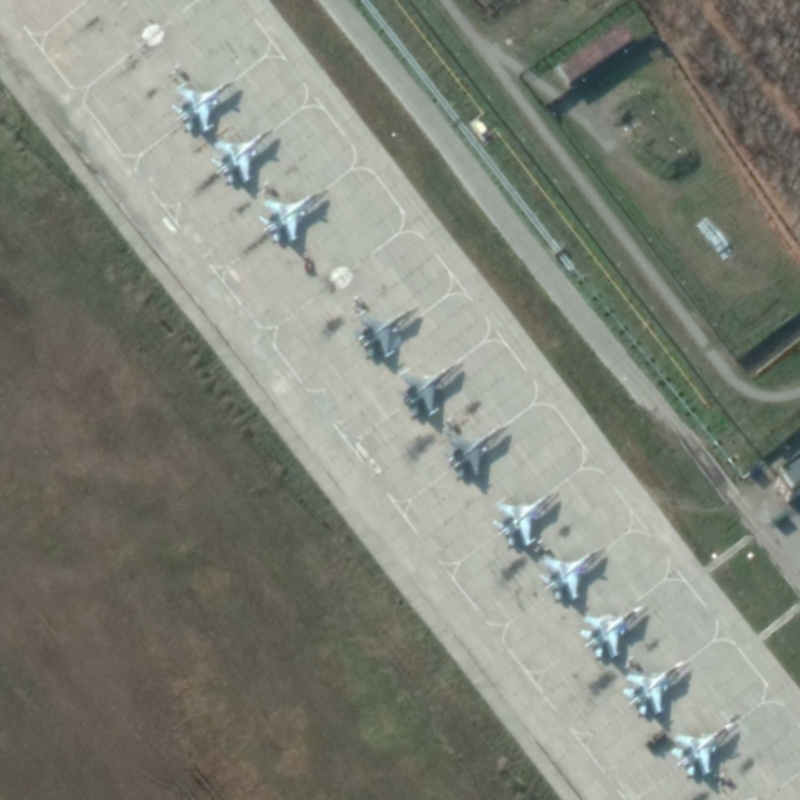A1: (441, 422, 511, 482), (257, 187, 330, 244), (491, 490, 562, 548), (396, 359, 466, 417), (537, 546, 608, 601), (355, 304, 420, 361), (209, 128, 274, 184), (169, 80, 235, 133)
A19: (669, 721, 741, 777), (578, 603, 648, 660), (621, 660, 691, 716)
